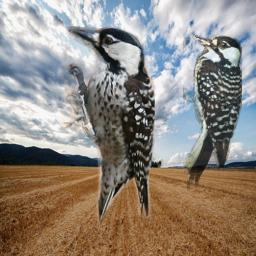Woodpecker: (59, 26, 155, 225), (183, 33, 242, 191)
